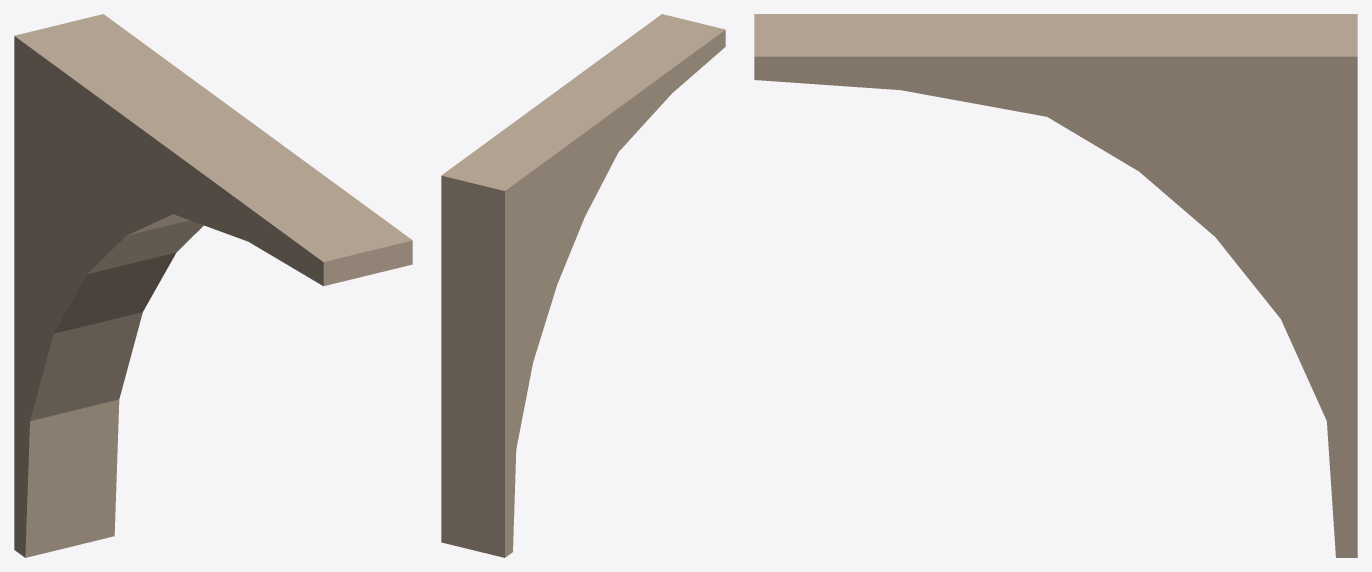
File: Wall-1-DoorCorner-1.glb
3 renders of one model, left to right at view 1: azimuth 30°, elevation 25°; view 2: azimuth 150°, elevation 25°; view 3: azimuth 270°, elevation 25°, orthographic. The views are drawn at different scales.
Visible parts, largest first — view 1: Wall-1-DoorCorner-1; view 2: Wall-1-DoorCorner-1; view 3: Wall-1-DoorCorner-1.
Part boxes in pixels (box(x1,y1,x2,y2)): Wall-1-DoorCorner-1: box(14, 14, 412, 557); Wall-1-DoorCorner-1: box(441, 14, 725, 557); Wall-1-DoorCorner-1: box(754, 14, 1357, 557).
Bounding box in the file's own units: 0.5 × 2.75 × 3.
